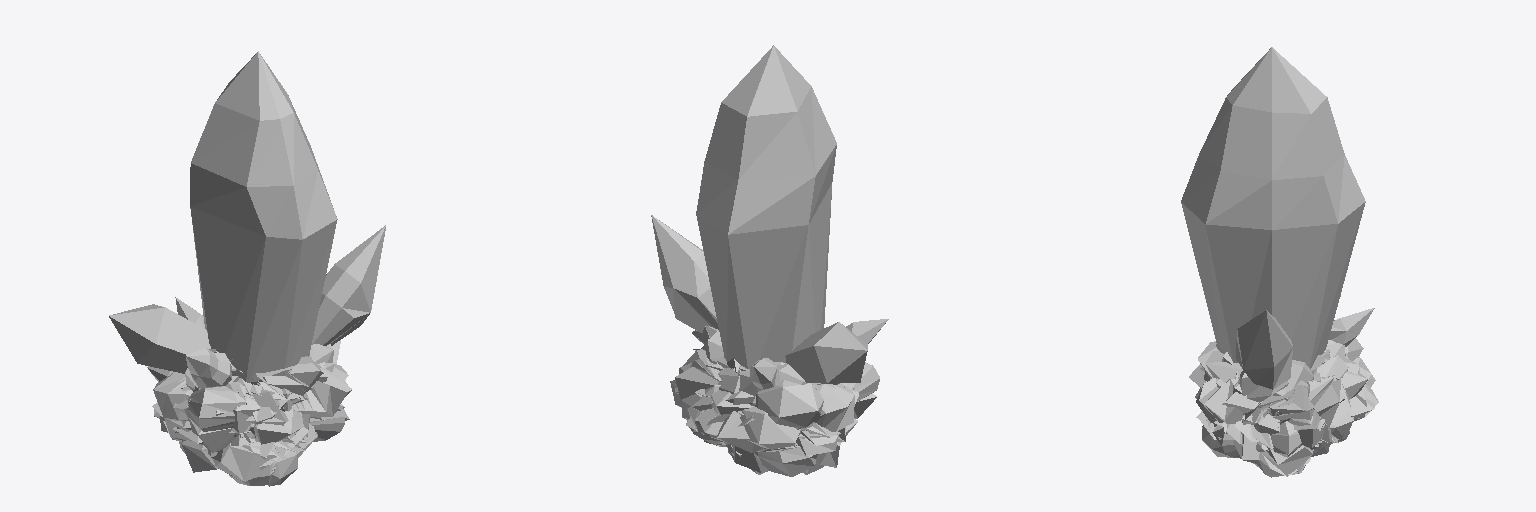
Rendered from Crystal.obj.
3 renders of one model, left to right at view 1: azimuth 30°, elevation 25°; view 2: azimuth 150°, elevation 25°; view 3: azimuth 270°, elevation 25°, orthographic.
Visible parts, largest first — view 1: Circle, Cube; view 2: Circle, Cube; view 3: Circle, Cube.
Boxes of the visible parts, x1,y1,x2,y2 form: Circle: [109, 51, 385, 387]; Cube: [147, 340, 351, 486]; Circle: [651, 45, 888, 389]; Cube: [670, 325, 879, 476]; Circle: [1181, 47, 1374, 389]; Cube: [1189, 338, 1378, 477].
Size of the model in its own units: 2.88 by 4.64 by 2.